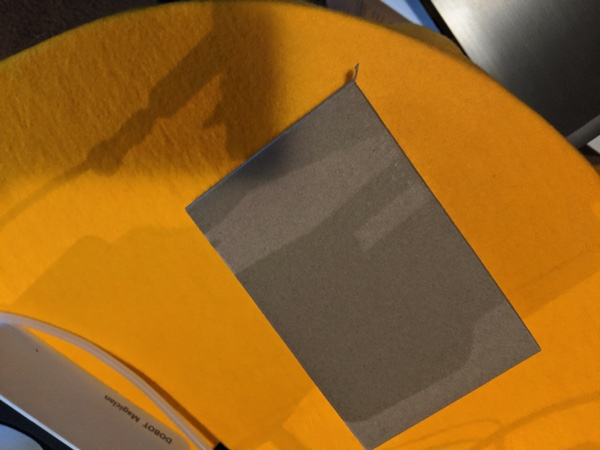cardboard: (170, 62, 559, 450)
